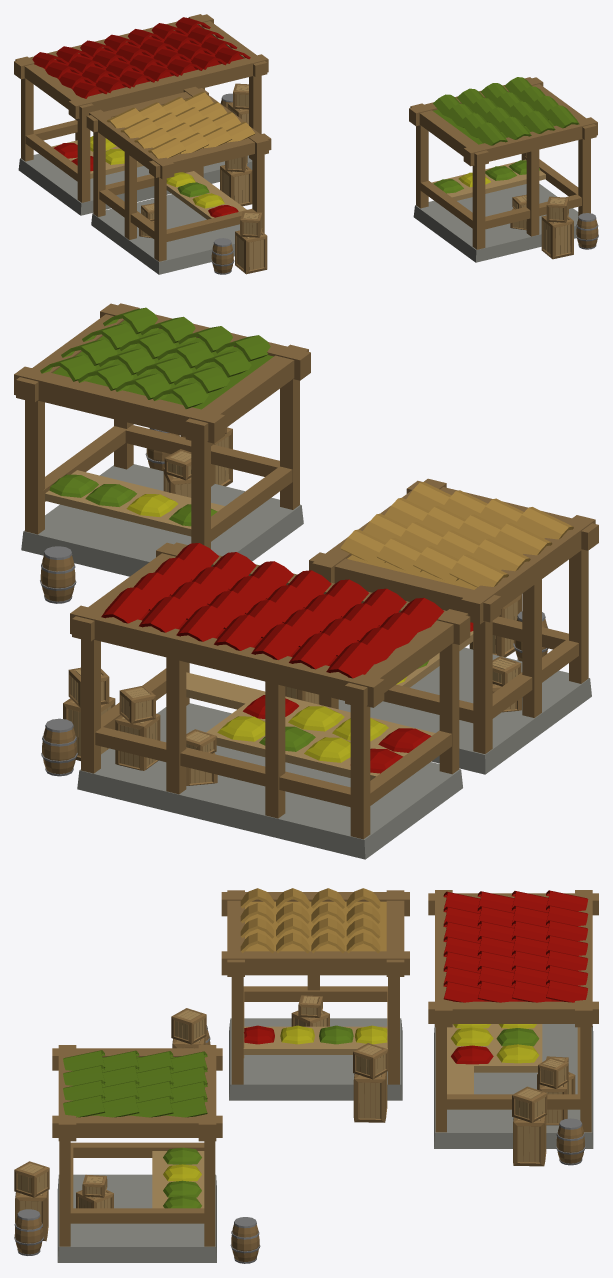
The model's file is Market Stalls-OLd8vu6lPL.glb.
The picture shows the model from 3 angles, top to bottom: view 1: azimuth 30°, elevation 25°; view 2: azimuth 150°, elevation 25°; view 3: azimuth 270°, elevation 25°; orthographic projection. The views are drawn at different scales.
Visible parts, largest first — view 1: Market Stalls-OLd8vu6lPL; view 2: Market Stalls-OLd8vu6lPL; view 3: Market Stalls-OLd8vu6lPL.
Part boxes in pixels (<box>): Market Stalls-OLd8vu6lPL: <box>14,14,598,274</box>; Market Stalls-OLd8vu6lPL: <box>14,303,598,859</box>; Market Stalls-OLd8vu6lPL: <box>14,888,598,1263</box>.
Size of the model in its own units: 1.92 by 0.6571 by 2.01.
